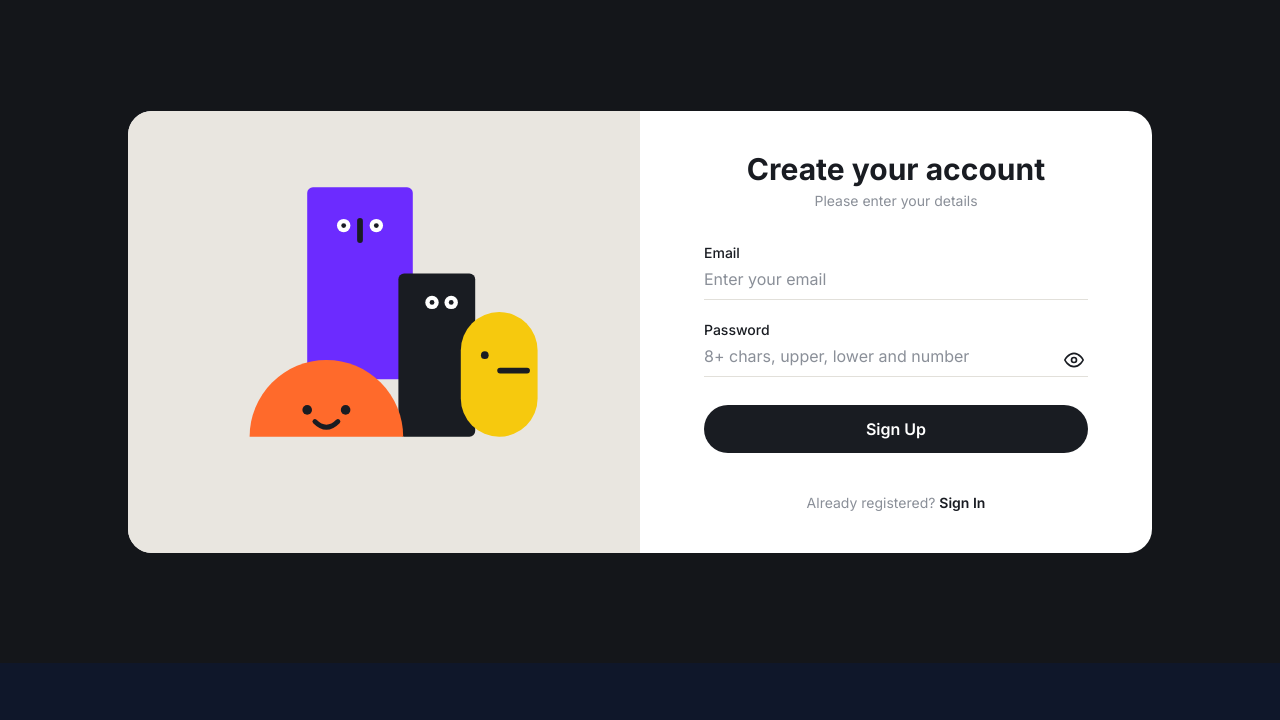
Test: RegisterPage validation › enforces the 8 character minimum on the password
Type "user@test.co" into the field labelled "Email" at (896, 283), box [704, 266, 1088, 300]
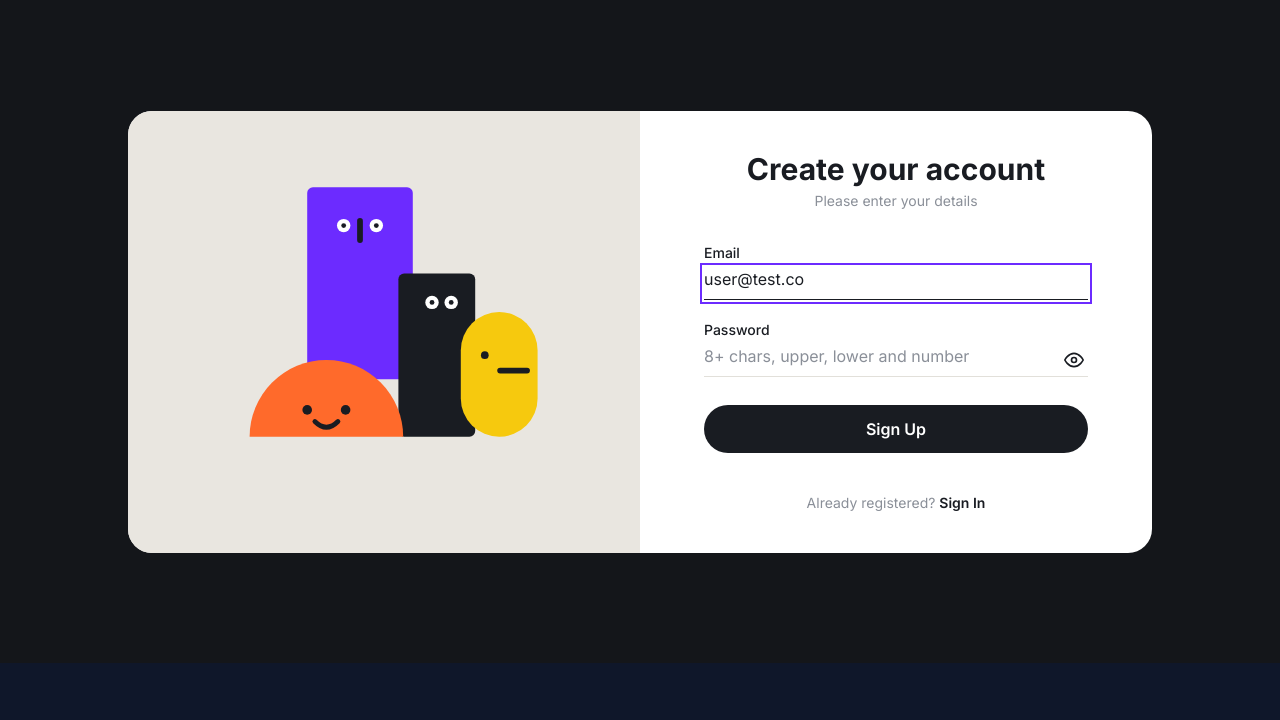
Type "short" into the password field labelled "Password" at (896, 360), box [704, 344, 1088, 376]
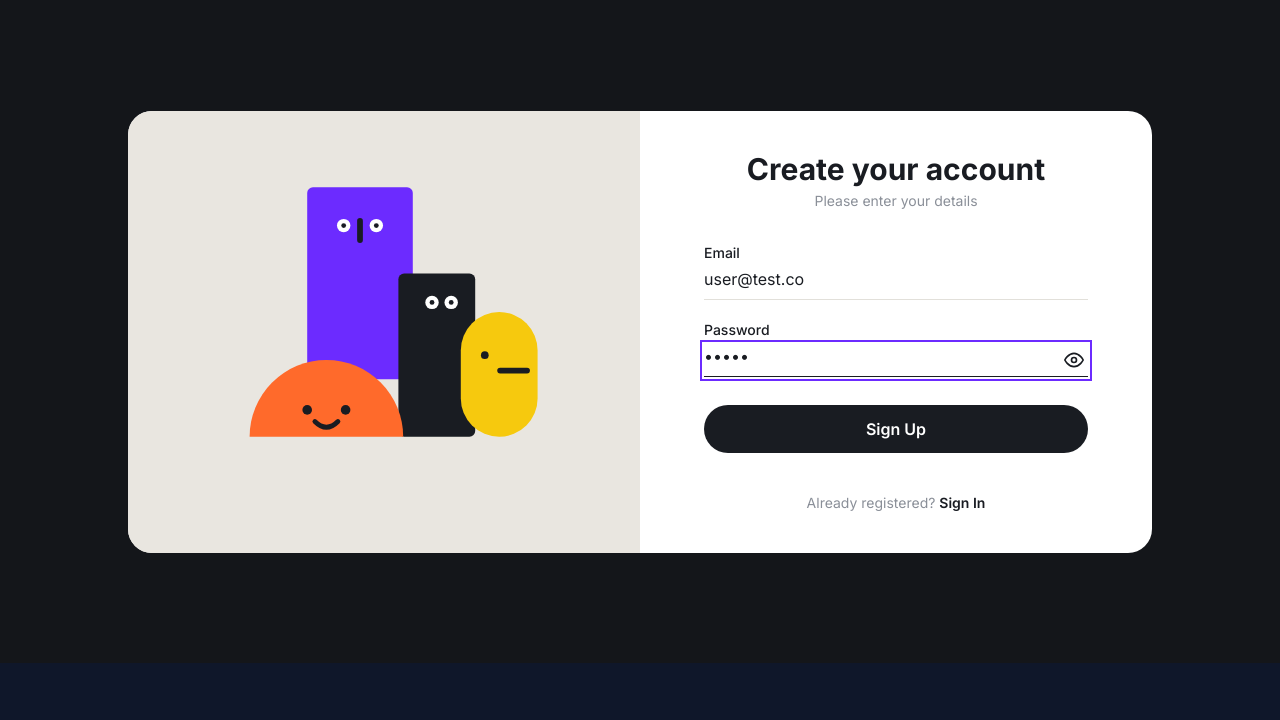
Click the button "Sign Up" at (896, 428), box [704, 404, 1088, 452]
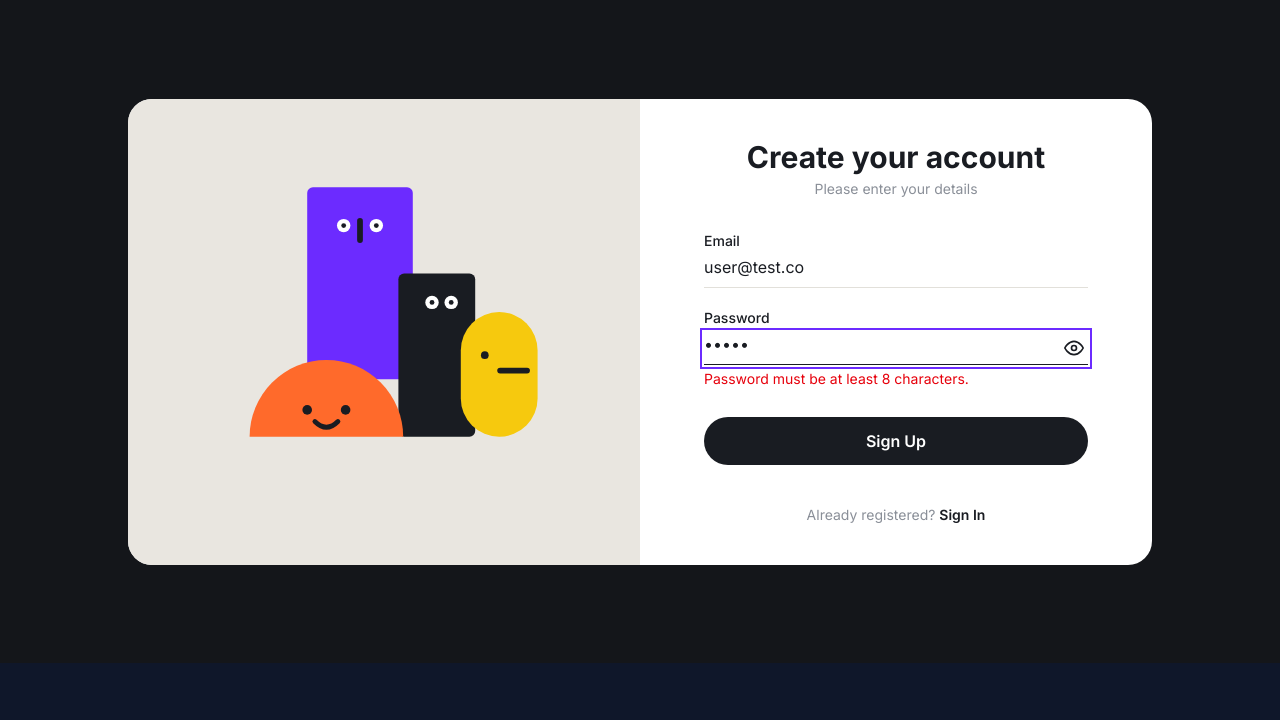
Check: the text "Password must be at least 8 characters." is shown, box [704, 370, 969, 386]
